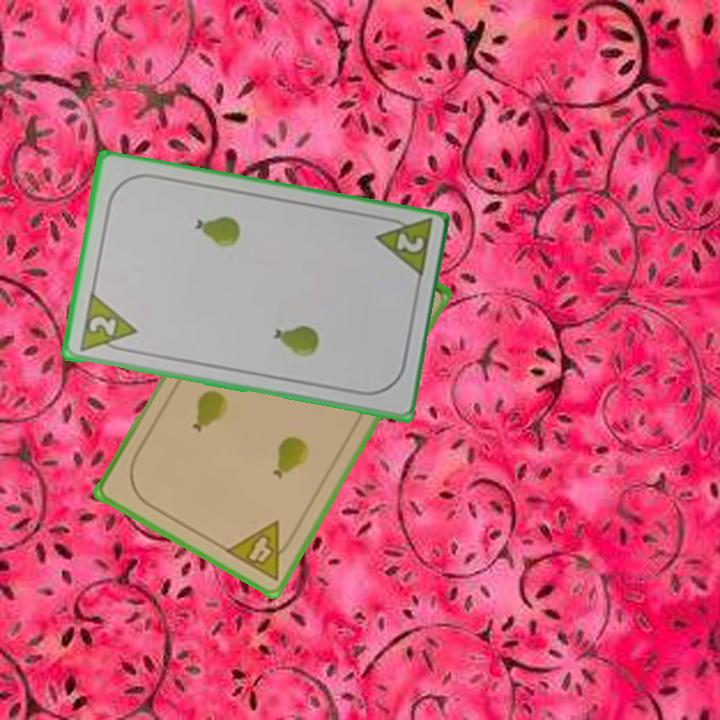2p: (370, 214, 434, 283), (75, 291, 139, 356)
4p: (221, 517, 300, 584)
